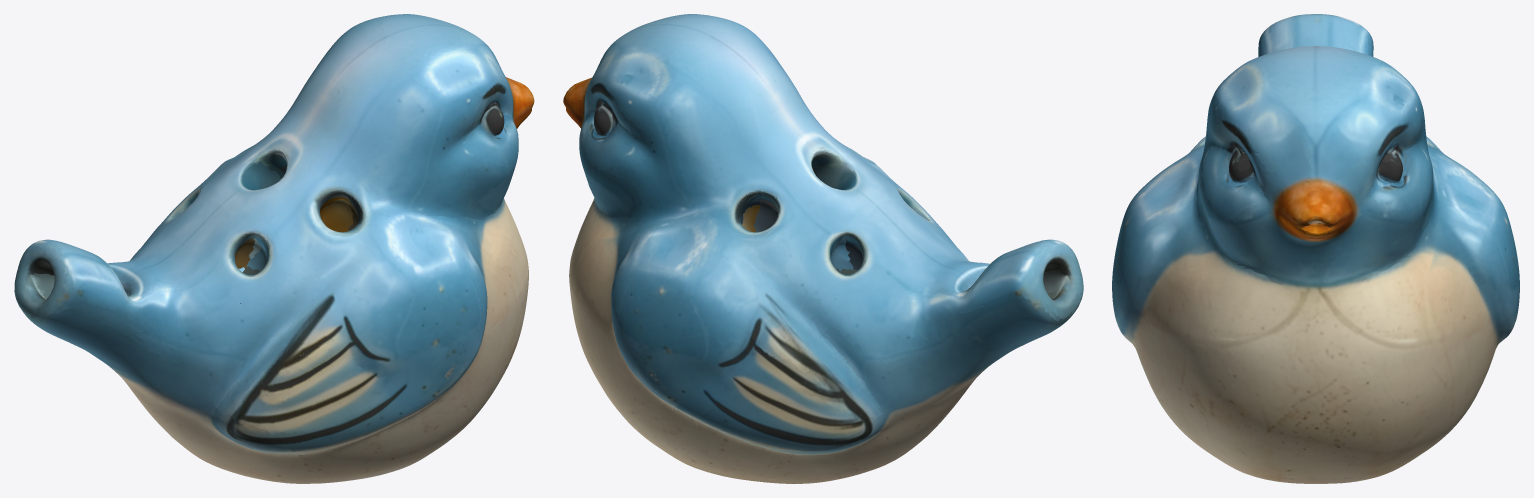
Rendered from bird-whistle.glb.
The picture shows the model from 3 angles, left to right: view 1: azimuth 30°, elevation 25°; view 2: azimuth 150°, elevation 25°; view 3: azimuth 270°, elevation 25°; orthographic projection. The views are drawn at different scales.
Parts seen in each view (by area): view 1: geometry_0; view 2: geometry_0; view 3: geometry_0.
Part boxes in pixels (x1,y1,x2,y2): geometry_0: [14, 14, 534, 483]; geometry_0: [563, 14, 1083, 483]; geometry_0: [1112, 14, 1519, 483].
Bounding box in the file's own units: 0.11 × 0.0832 × 0.0722.
1 material, 1 textured.
